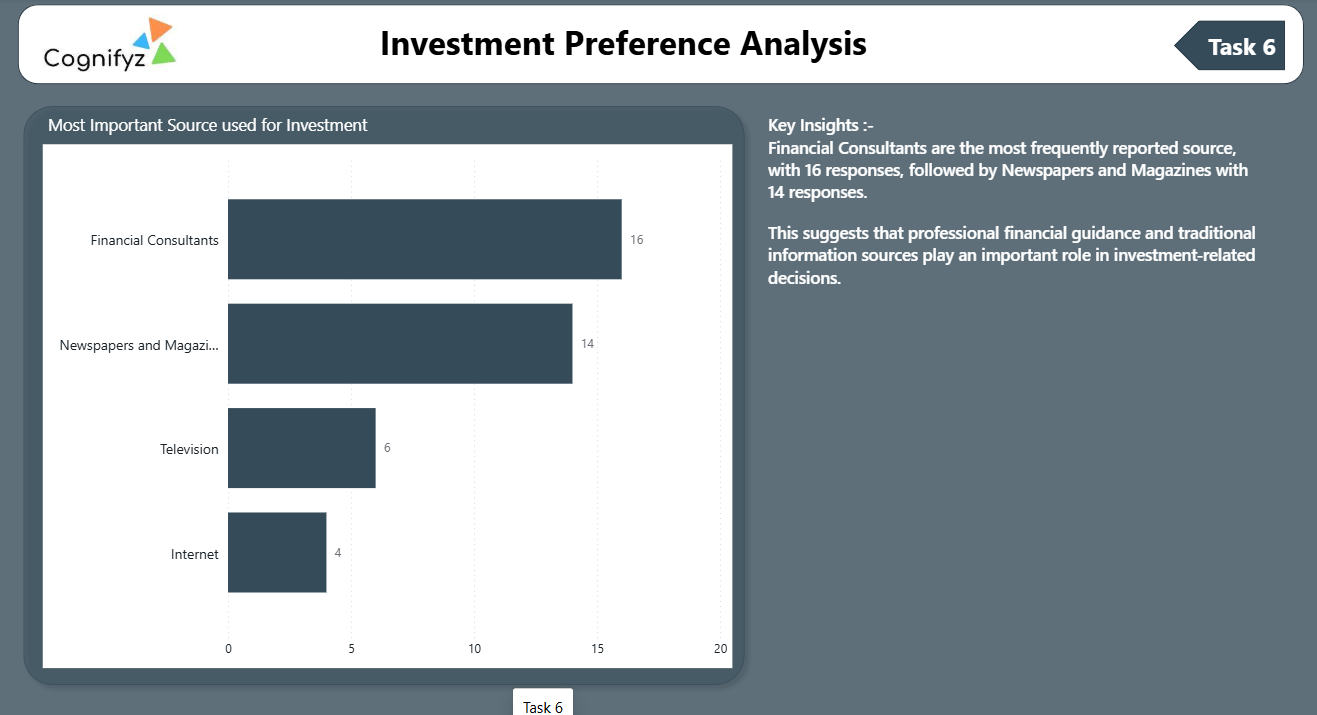

The page's visual inventory and layout, read from the dashboard file:
{"tool":"powerbi","page":{"name":"Task 6","canvas":[1280,720],"ordinal":5},"visuals":[{"type":"shape","box":[14.5,95.3,714.2,576.7],"z":1000},{"type":"shape","box":[18.1,6,1241.4,77.2],"z":2000},{"type":"textbox","box":[307.6,15.7,589.9,59.1],"z":3000},{"type":"image","box":[42.2,9.7,130.3,70],"z":4000},{"type":"shape","box":[1134.1,21.7,107.4,48.3],"z":5000},{"type":"textbox","box":[42.6,106.6,357.4,35.1],"z":6000},{"type":"clusteredBarChart","fields":{"Category":["Data_set 2.Source"],"Y":["Measure.Total Respondents"]},"box":[42.2,141.2,666,505.5],"z":7000},{"type":"textbox","box":[737.1,106.2,491,187],"z":7001}]}

Visuals, with their boxes on the page's 1280x720 design canvas (x1, y1, x2, y2). These are canvas units, not pixel positions in the 1317x715 screenshot, which may show the page scaled, cropped or inside an application window:
shape: bbox=(14, 95, 729, 672)
shape: bbox=(18, 6, 1260, 83)
textbox: bbox=(308, 16, 898, 75)
image: bbox=(42, 10, 172, 80)
shape: bbox=(1134, 22, 1242, 70)
textbox: bbox=(43, 107, 400, 142)
clusteredBarChart - Data_set 2.Source x Measure.Total Respondents: bbox=(42, 141, 708, 647)
textbox: bbox=(737, 106, 1228, 293)
